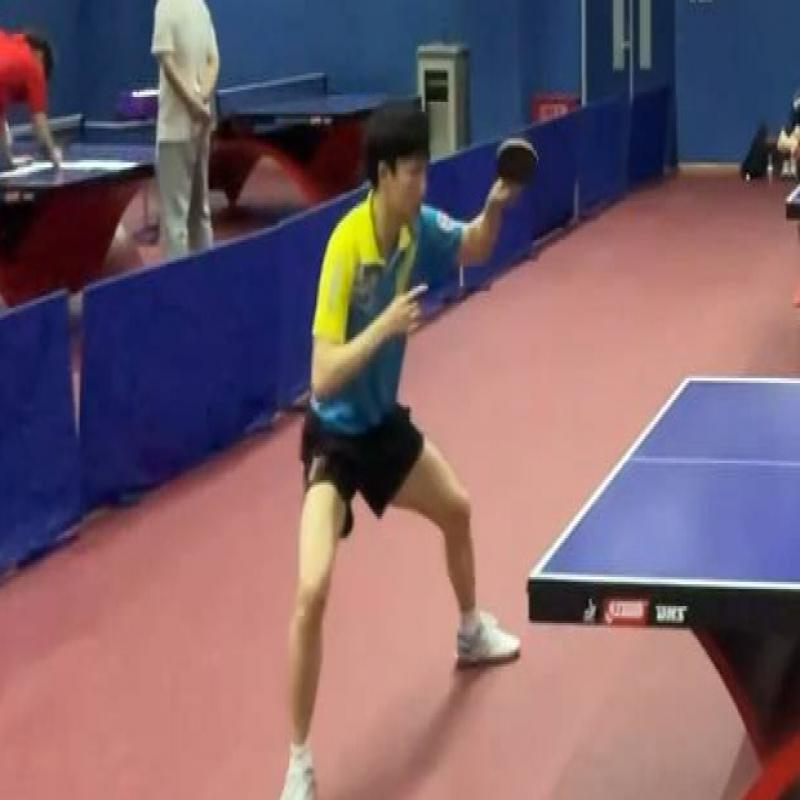bats: (492, 122, 548, 226)
